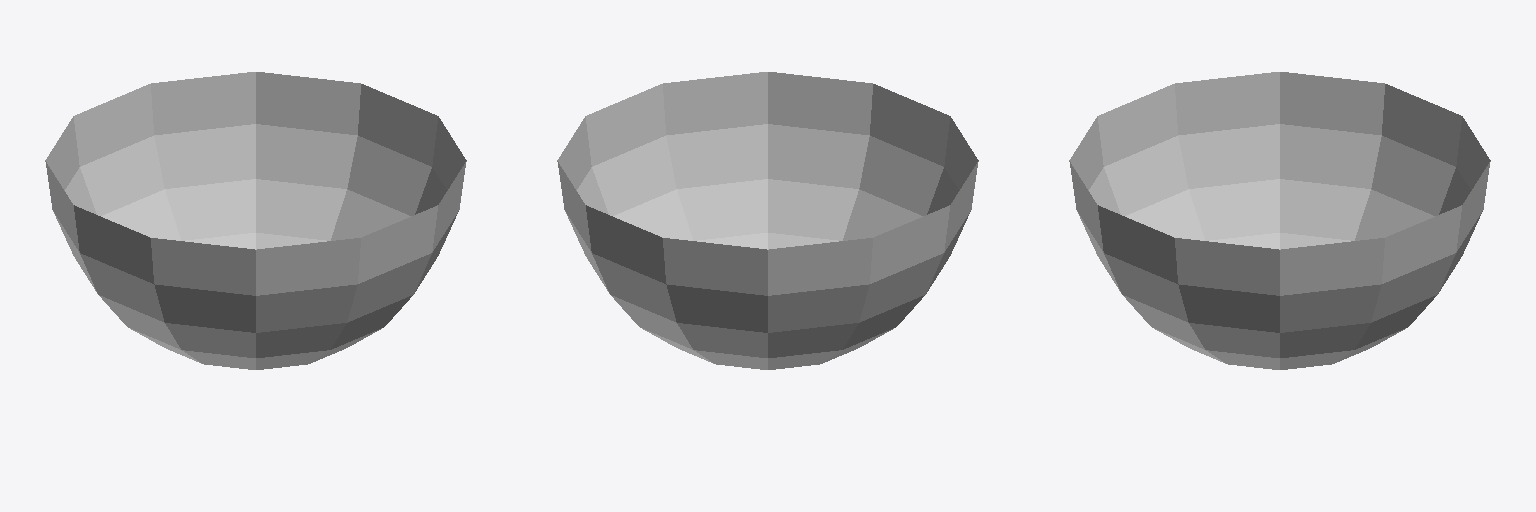
File: skydome_inverted.obj
The picture shows the model from 3 angles: view 1: azimuth 30°, elevation 25°; view 2: azimuth 150°, elevation 25°; view 3: azimuth 270°, elevation 25°; orthographic projection.
Size of the model in its own units: 3449 by 1725 by 3449.